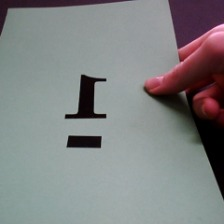green1: (56, 64, 117, 151)
